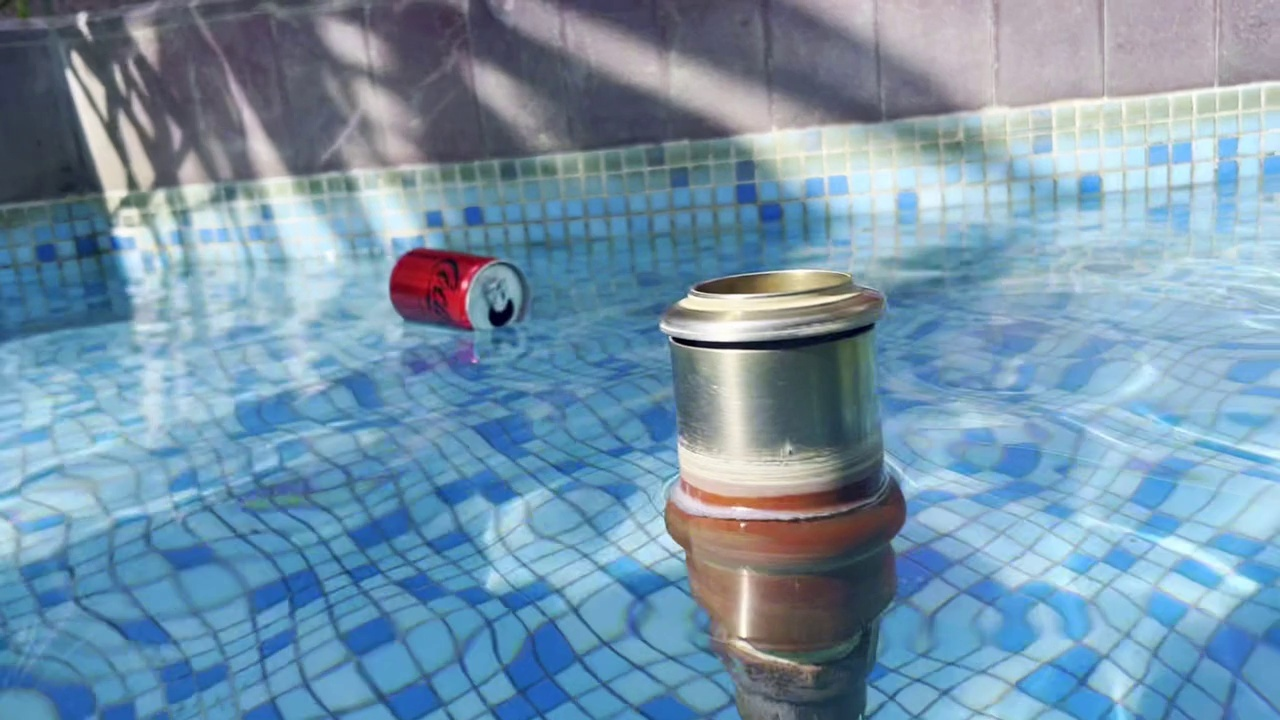debris: (373, 237, 537, 340)
